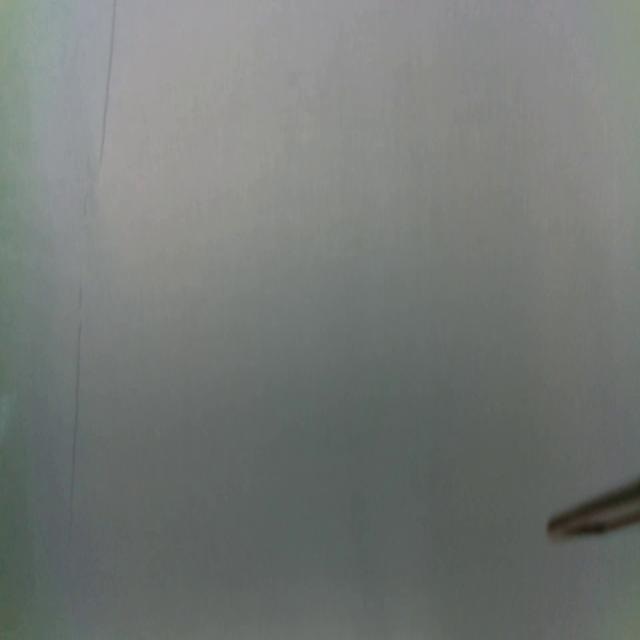crease: (69, 281, 86, 526), (100, 0, 122, 177)
